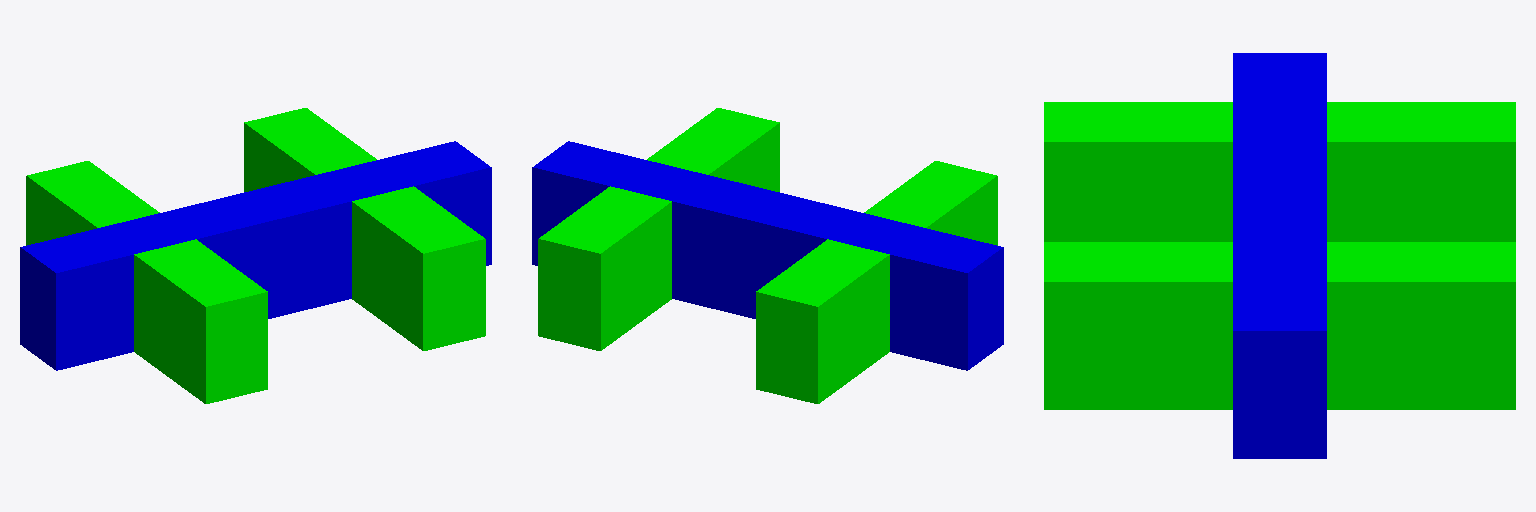
The robot description file, URDF, robot "robot":
<robot name = "robot">
    <link name="root">
        <inertial>
            <origin xyz="0.0 0.0 1.5" rpy="0 0 0"/>
            <mass value="1" />
            <inertia ixx="100" ixy="0" ixz="0" iyy="100" iyz="0" izz="100" />
        </inertial>
        <visual>
            <origin xyz="0.0 0.0 1.5" rpy="0 0 0"/>
            <geometry>
                <box size="0 0 0.0001" />
            </geometry>
            <material name="Green">
                <color rgba="0 1.0 0.0 1.0"/>
            </material>
        </visual>
        <collision>
            <origin xyz="0.0 0.0 1.5" rpy="0 0 0"/>
            <geometry>
                <box size="0 0 0.0001" />
            </geometry>
        </collision>
    </link>
    <joint name="root_000" type="revolute">
       <parent link="root"/>
       <child  link="000"/>
       <origin rpy="0 0 0" xyz="0.0 0.0 1.5" />
     <axis xyz="1 0 0"/>
       <limit effort="0.0" lower="-3.14159" upper="3.14159" velocity="0.0"/>
    </joint>
    <link name="000">
        <inertial>
            <origin xyz="0.35 0.0 0.0" rpy="0 0 0"/>
            <mass value="1" />
            <inertia ixx="100" ixy="0" ixz="0" iyy="100" iyz="0" izz="100" />
        </inertial>
        <visual>
            <origin xyz="0.35 0.0 0.0" rpy="0 0 0"/>
            <geometry>
                <box size="0.7 0.2 0.3" />
            </geometry>
            <material name="Blue">
                <color rgba="0 0.0 1.0 1.0"/>
            </material>
        </visual>
        <collision>
            <origin xyz="0.35 0.0 0.0" rpy="0 0 0"/>
            <geometry>
                <box size="0.7 0.2 0.3" />
            </geometry>
        </collision>
    </link>
    <joint name="000_010" type="revolute">
       <parent link="000"/>
       <child  link="010"/>
       <origin rpy="0 0 0" xyz="0.7 0.0 -0.0" />
     <axis xyz="1 0 0"/>
       <limit effort="0.0" lower="-3.14159" upper="3.14159" velocity="0.0"/>
    </joint>
    <link name="010">
        <inertial>
            <origin xyz="0.35 0.0 -0.0" rpy="0 0 0"/>
            <mass value="1" />
            <inertia ixx="100" ixy="0" ixz="0" iyy="100" iyz="0" izz="100" />
        </inertial>
        <visual>
            <origin xyz="0.35 0.0 -0.0" rpy="0 0 0"/>
            <geometry>
                <box size="0.7 0.2 0.3" />
            </geometry>
            <material name="Blue">
                <color rgba="0 0.0 1.0 1.0"/>
            </material>
        </visual>
        <collision>
            <origin xyz="0.35 0.0 -0.0" rpy="0 0 0"/>
            <geometry>
                <box size="0.7 0.2 0.3" />
            </geometry>
        </collision>
    </link>
    <joint name="010_010-100" type="revolute">
       <parent link="010"/>
       <child  link="010-100"/>
       <origin rpy="0 0 0" xyz="0.35 0.1 -0.0" />
     <axis xyz="0 1 0"/>
       <limit effort="0.0" lower="-3.14159" upper="3.14159" velocity="0.0"/>
    </joint>
    <link name="010-100">
        <inertial>
            <origin xyz="0.0 0.1 -0.0" rpy="0 0 0"/>
            <mass value="1" />
            <inertia ixx="100" ixy="0" ixz="0" iyy="100" iyz="0" izz="100" />
        </inertial>
        <visual>
            <origin xyz="0.0 0.1 -0.0" rpy="0 0 0"/>
            <geometry>
                <box size="0.2 0.2 0.3" />
            </geometry>
            <material name="Green">
                <color rgba="0 1.0 0.0 1.0"/>
            </material>
        </visual>
        <collision>
            <origin xyz="0.0 0.1 -0.0" rpy="0 0 0"/>
            <geometry>
                <box size="0.2 0.2 0.3" />
            </geometry>
        </collision>
    </link>
    <joint name="010-100_010-110" type="revolute">
       <parent link="010-100"/>
       <child  link="010-110"/>
       <origin rpy="0 0 0" xyz="0.0 0.2 -0.0" />
     <axis xyz="0 1 0"/>
       <limit effort="0.0" lower="-3.14159" upper="3.14159" velocity="0.0"/>
    </joint>
    <link name="010-110">
        <inertial>
            <origin xyz="0.0 0.1 -0.0" rpy="0 0 0"/>
            <mass value="1" />
            <inertia ixx="100" ixy="0" ixz="0" iyy="100" iyz="0" izz="100" />
        </inertial>
        <visual>
            <origin xyz="0.0 0.1 -0.0" rpy="0 0 0"/>
            <geometry>
                <box size="0.2 0.2 0.3" />
            </geometry>
            <material name="Green">
                <color rgba="0 1.0 0.0 1.0"/>
            </material>
        </visual>
        <collision>
            <origin xyz="0.0 0.1 -0.0" rpy="0 0 0"/>
            <geometry>
                <box size="0.2 0.2 0.3" />
            </geometry>
        </collision>
    </link>
    <joint name="010_010-101" type="revolute">
       <parent link="010"/>
       <child  link="010-101"/>
       <origin rpy="0 0 0" xyz="0.35 -0.1 -0.0" />
     <axis xyz="0 1 0"/>
       <limit effort="0.0" lower="-3.14159" upper="3.14159" velocity="0.0"/>
    </joint>
    <link name="010-101">
        <inertial>
            <origin xyz="0.0 -0.1 -0.0" rpy="0 0 0"/>
            <mass value="1" />
            <inertia ixx="100" ixy="0" ixz="0" iyy="100" iyz="0" izz="100" />
        </inertial>
        <visual>
            <origin xyz="0.0 -0.1 -0.0" rpy="0 0 0"/>
            <geometry>
                <box size="0.2 0.2 0.3" />
            </geometry>
            <material name="Green">
                <color rgba="0 1.0 0.0 1.0"/>
            </material>
        </visual>
        <collision>
            <origin xyz="0.0 -0.1 -0.0" rpy="0 0 0"/>
            <geometry>
                <box size="0.2 0.2 0.3" />
            </geometry>
        </collision>
    </link>
    <joint name="010-101_010-111" type="revolute">
       <parent link="010-101"/>
       <child  link="010-111"/>
       <origin rpy="0 0 0" xyz="0.0 -0.2 -0.0" />
     <axis xyz="0 1 0"/>
       <limit effort="0.0" lower="-3.14159" upper="3.14159" velocity="0.0"/>
    </joint>
    <link name="010-111">
        <inertial>
            <origin xyz="0.0 -0.1 -0.0" rpy="0 0 0"/>
            <mass value="1" />
            <inertia ixx="100" ixy="0" ixz="0" iyy="100" iyz="0" izz="100" />
        </inertial>
        <visual>
            <origin xyz="0.0 -0.1 -0.0" rpy="0 0 0"/>
            <geometry>
                <box size="0.2 0.2 0.3" />
            </geometry>
            <material name="Green">
                <color rgba="0 1.0 0.0 1.0"/>
            </material>
        </visual>
        <collision>
            <origin xyz="0.0 -0.1 -0.0" rpy="0 0 0"/>
            <geometry>
                <box size="0.2 0.2 0.3" />
            </geometry>
        </collision>
    </link>
    <joint name="000_000-100" type="revolute">
       <parent link="000"/>
       <child  link="000-100"/>
       <origin rpy="0 0 0" xyz="0.35 0.1 -0.0" />
     <axis xyz="0 1 0"/>
       <limit effort="0.0" lower="-3.14159" upper="3.14159" velocity="0.0"/>
    </joint>
    <link name="000-100">
        <inertial>
            <origin xyz="0.0 0.1 -0.0" rpy="0 0 0"/>
            <mass value="1" />
            <inertia ixx="100" ixy="0" ixz="0" iyy="100" iyz="0" izz="100" />
        </inertial>
        <visual>
            <origin xyz="0.0 0.1 -0.0" rpy="0 0 0"/>
            <geometry>
                <box size="0.2 0.2 0.3" />
            </geometry>
            <material name="Green">
                <color rgba="0 1.0 0.0 1.0"/>
            </material>
        </visual>
        <collision>
            <origin xyz="0.0 0.1 -0.0" rpy="0 0 0"/>
            <geometry>
                <box size="0.2 0.2 0.3" />
            </geometry>
        </collision>
    </link>
    <joint name="000-100_000-110" type="revolute">
       <parent link="000-100"/>
       <child  link="000-110"/>
       <origin rpy="0 0 0" xyz="0.0 0.2 -0.0" />
     <axis xyz="0 1 0"/>
       <limit effort="0.0" lower="-3.14159" upper="3.14159" velocity="0.0"/>
    </joint>
    <link name="000-110">
        <inertial>
            <origin xyz="0.0 0.1 -0.0" rpy="0 0 0"/>
            <mass value="1" />
            <inertia ixx="100" ixy="0" ixz="0" iyy="100" iyz="0" izz="100" />
        </inertial>
        <visual>
            <origin xyz="0.0 0.1 -0.0" rpy="0 0 0"/>
            <geometry>
                <box size="0.2 0.2 0.3" />
            </geometry>
            <material name="Green">
                <color rgba="0 1.0 0.0 1.0"/>
            </material>
        </visual>
        <collision>
            <origin xyz="0.0 0.1 -0.0" rpy="0 0 0"/>
            <geometry>
                <box size="0.2 0.2 0.3" />
            </geometry>
        </collision>
    </link>
    <joint name="000_000-101" type="revolute">
       <parent link="000"/>
       <child  link="000-101"/>
       <origin rpy="0 0 0" xyz="0.35 -0.1 -0.0" />
     <axis xyz="0 1 0"/>
       <limit effort="0.0" lower="-3.14159" upper="3.14159" velocity="0.0"/>
    </joint>
    <link name="000-101">
        <inertial>
            <origin xyz="0.0 -0.1 -0.0" rpy="0 0 0"/>
            <mass value="1" />
            <inertia ixx="100" ixy="0" ixz="0" iyy="100" iyz="0" izz="100" />
        </inertial>
        <visual>
            <origin xyz="0.0 -0.1 -0.0" rpy="0 0 0"/>
            <geometry>
                <box size="0.2 0.2 0.3" />
            </geometry>
            <material name="Green">
                <color rgba="0 1.0 0.0 1.0"/>
            </material>
        </visual>
        <collision>
            <origin xyz="0.0 -0.1 -0.0" rpy="0 0 0"/>
            <geometry>
                <box size="0.2 0.2 0.3" />
            </geometry>
        </collision>
    </link>
    <joint name="000-101_000-111" type="revolute">
       <parent link="000-101"/>
       <child  link="000-111"/>
       <origin rpy="0 0 0" xyz="0.0 -0.2 -0.0" />
     <axis xyz="0 1 0"/>
       <limit effort="0.0" lower="-3.14159" upper="3.14159" velocity="0.0"/>
    </joint>
    <link name="000-111">
        <inertial>
            <origin xyz="0.0 -0.1 -0.0" rpy="0 0 0"/>
            <mass value="1" />
            <inertia ixx="100" ixy="0" ixz="0" iyy="100" iyz="0" izz="100" />
        </inertial>
        <visual>
            <origin xyz="0.0 -0.1 -0.0" rpy="0 0 0"/>
            <geometry>
                <box size="0.2 0.2 0.3" />
            </geometry>
            <material name="Green">
                <color rgba="0 1.0 0.0 1.0"/>
            </material>
        </visual>
        <collision>
            <origin xyz="0.0 -0.1 -0.0" rpy="0 0 0"/>
            <geometry>
                <box size="0.2 0.2 0.3" />
            </geometry>
        </collision>
    </link>
</robot>

--- What the picture shows (computed from the rendered views, not written in the file) ---
The picture shows the robot from 3 angles, left to right: view 1: azimuth 30°, elevation 25°; view 2: azimuth 150°, elevation 25°; view 3: azimuth 270°, elevation 25°; orthographic projection.
Robot: robot — 11 links, 10 joints (10 revolute); root link root; default pose: all joints at 0.
Links seen in each view (by area): view 1: 000, 010, 010-111, 000-111, 000-101, 010-101, 000-110, 010-110, 000-100, 010-100; view 2: 000, 010, 010-110, 000-110, 000-100, 010-100, 000-111, 010-111, 000-101, 010-101; view 3: 010, 010-110, 010-111, 010-100, 010-101, 000-110, 000-111, 000-100, 000-101, 000.
Boxes of the visible links, x1=… form: 000: x1=20, y1=194, x2=273, y2=370; 010: x1=239, y1=141, x2=491, y2=317; 010-111: x1=388, y1=213, x2=485, y2=350; 000-111: x1=170, y1=266, x2=267, y2=403; 000-101: x1=134, y1=239, x2=231, y2=377; 010-101: x1=352, y1=186, x2=449, y2=324; 000-110: x1=26, y1=161, x2=123, y2=245; 010-110: x1=244, y1=108, x2=341, y2=191; 000-100: x1=62, y1=187, x2=159, y2=236; 010-100: x1=280, y1=134, x2=376, y2=183; 000: x1=750, y1=194, x2=1003, y2=370; 010: x1=532, y1=141, x2=784, y2=317; 010-110: x1=538, y1=213, x2=635, y2=350; 000-110: x1=756, y1=266, x2=853, y2=403; 000-100: x1=792, y1=239, x2=889, y2=377; 010-100: x1=574, y1=186, x2=671, y2=324; 000-111: x1=900, y1=161, x2=997, y2=245; 010-111: x1=682, y1=108, x2=779, y2=191; 000-101: x1=864, y1=187, x2=961, y2=236; 010-101: x1=647, y1=134, x2=743, y2=183; 010: x1=1233, y1=192, x2=1326, y2=458; 010-110: x1=1421, y1=242, x2=1515, y2=409; 010-111: x1=1044, y1=242, x2=1138, y2=409; 010-100: x1=1327, y1=242, x2=1420, y2=409; 010-101: x1=1139, y1=242, x2=1232, y2=409; 000-110: x1=1421, y1=102, x2=1515, y2=241; 000-111: x1=1044, y1=102, x2=1138, y2=241; 000-100: x1=1327, y1=102, x2=1420, y2=241; 000-101: x1=1139, y1=102, x2=1232, y2=241; 000: x1=1233, y1=53, x2=1326, y2=191.
Bounding box of the posed robot: 1.4 × 1 × 0.3 m (x, y, z).
Geometry: primitives only (box / cylinder / sphere), no mesh files.
